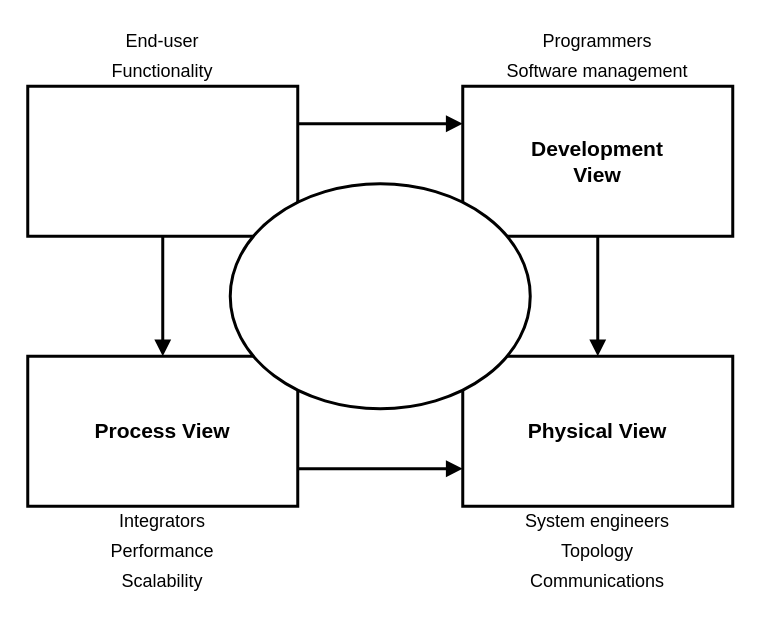
Some shapes in this 759 by 621 pixel diagram are drawn without their labels. The centre of each missing label's shape, as x and y in pixels:
Logical View: (162,160)
Scenarios: (379,296)
